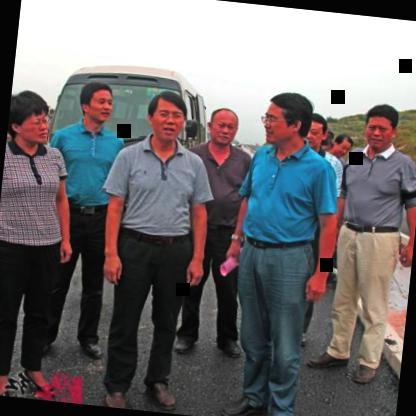head: (259, 90, 316, 154), (142, 82, 192, 151), (6, 90, 52, 149), (360, 102, 400, 156), (203, 102, 244, 154), (78, 78, 118, 126), (301, 112, 331, 154), (324, 129, 355, 164)
